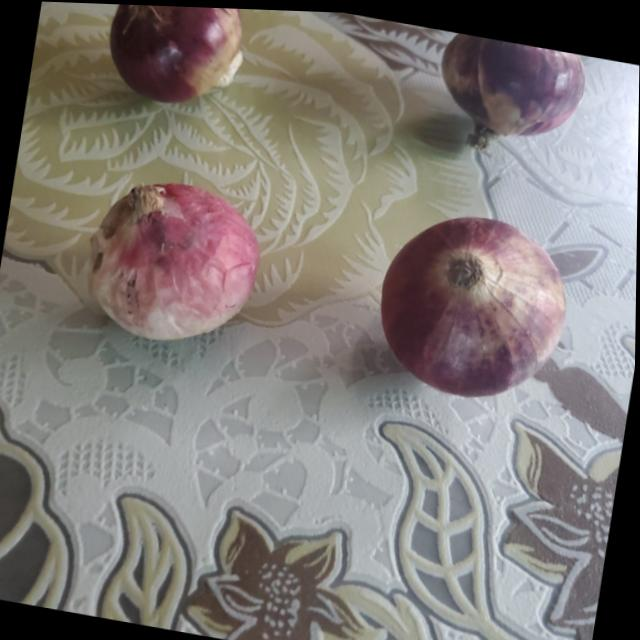onion: (367, 201, 579, 411), (83, 167, 266, 352), (430, 27, 588, 143), (102, 3, 255, 105)
